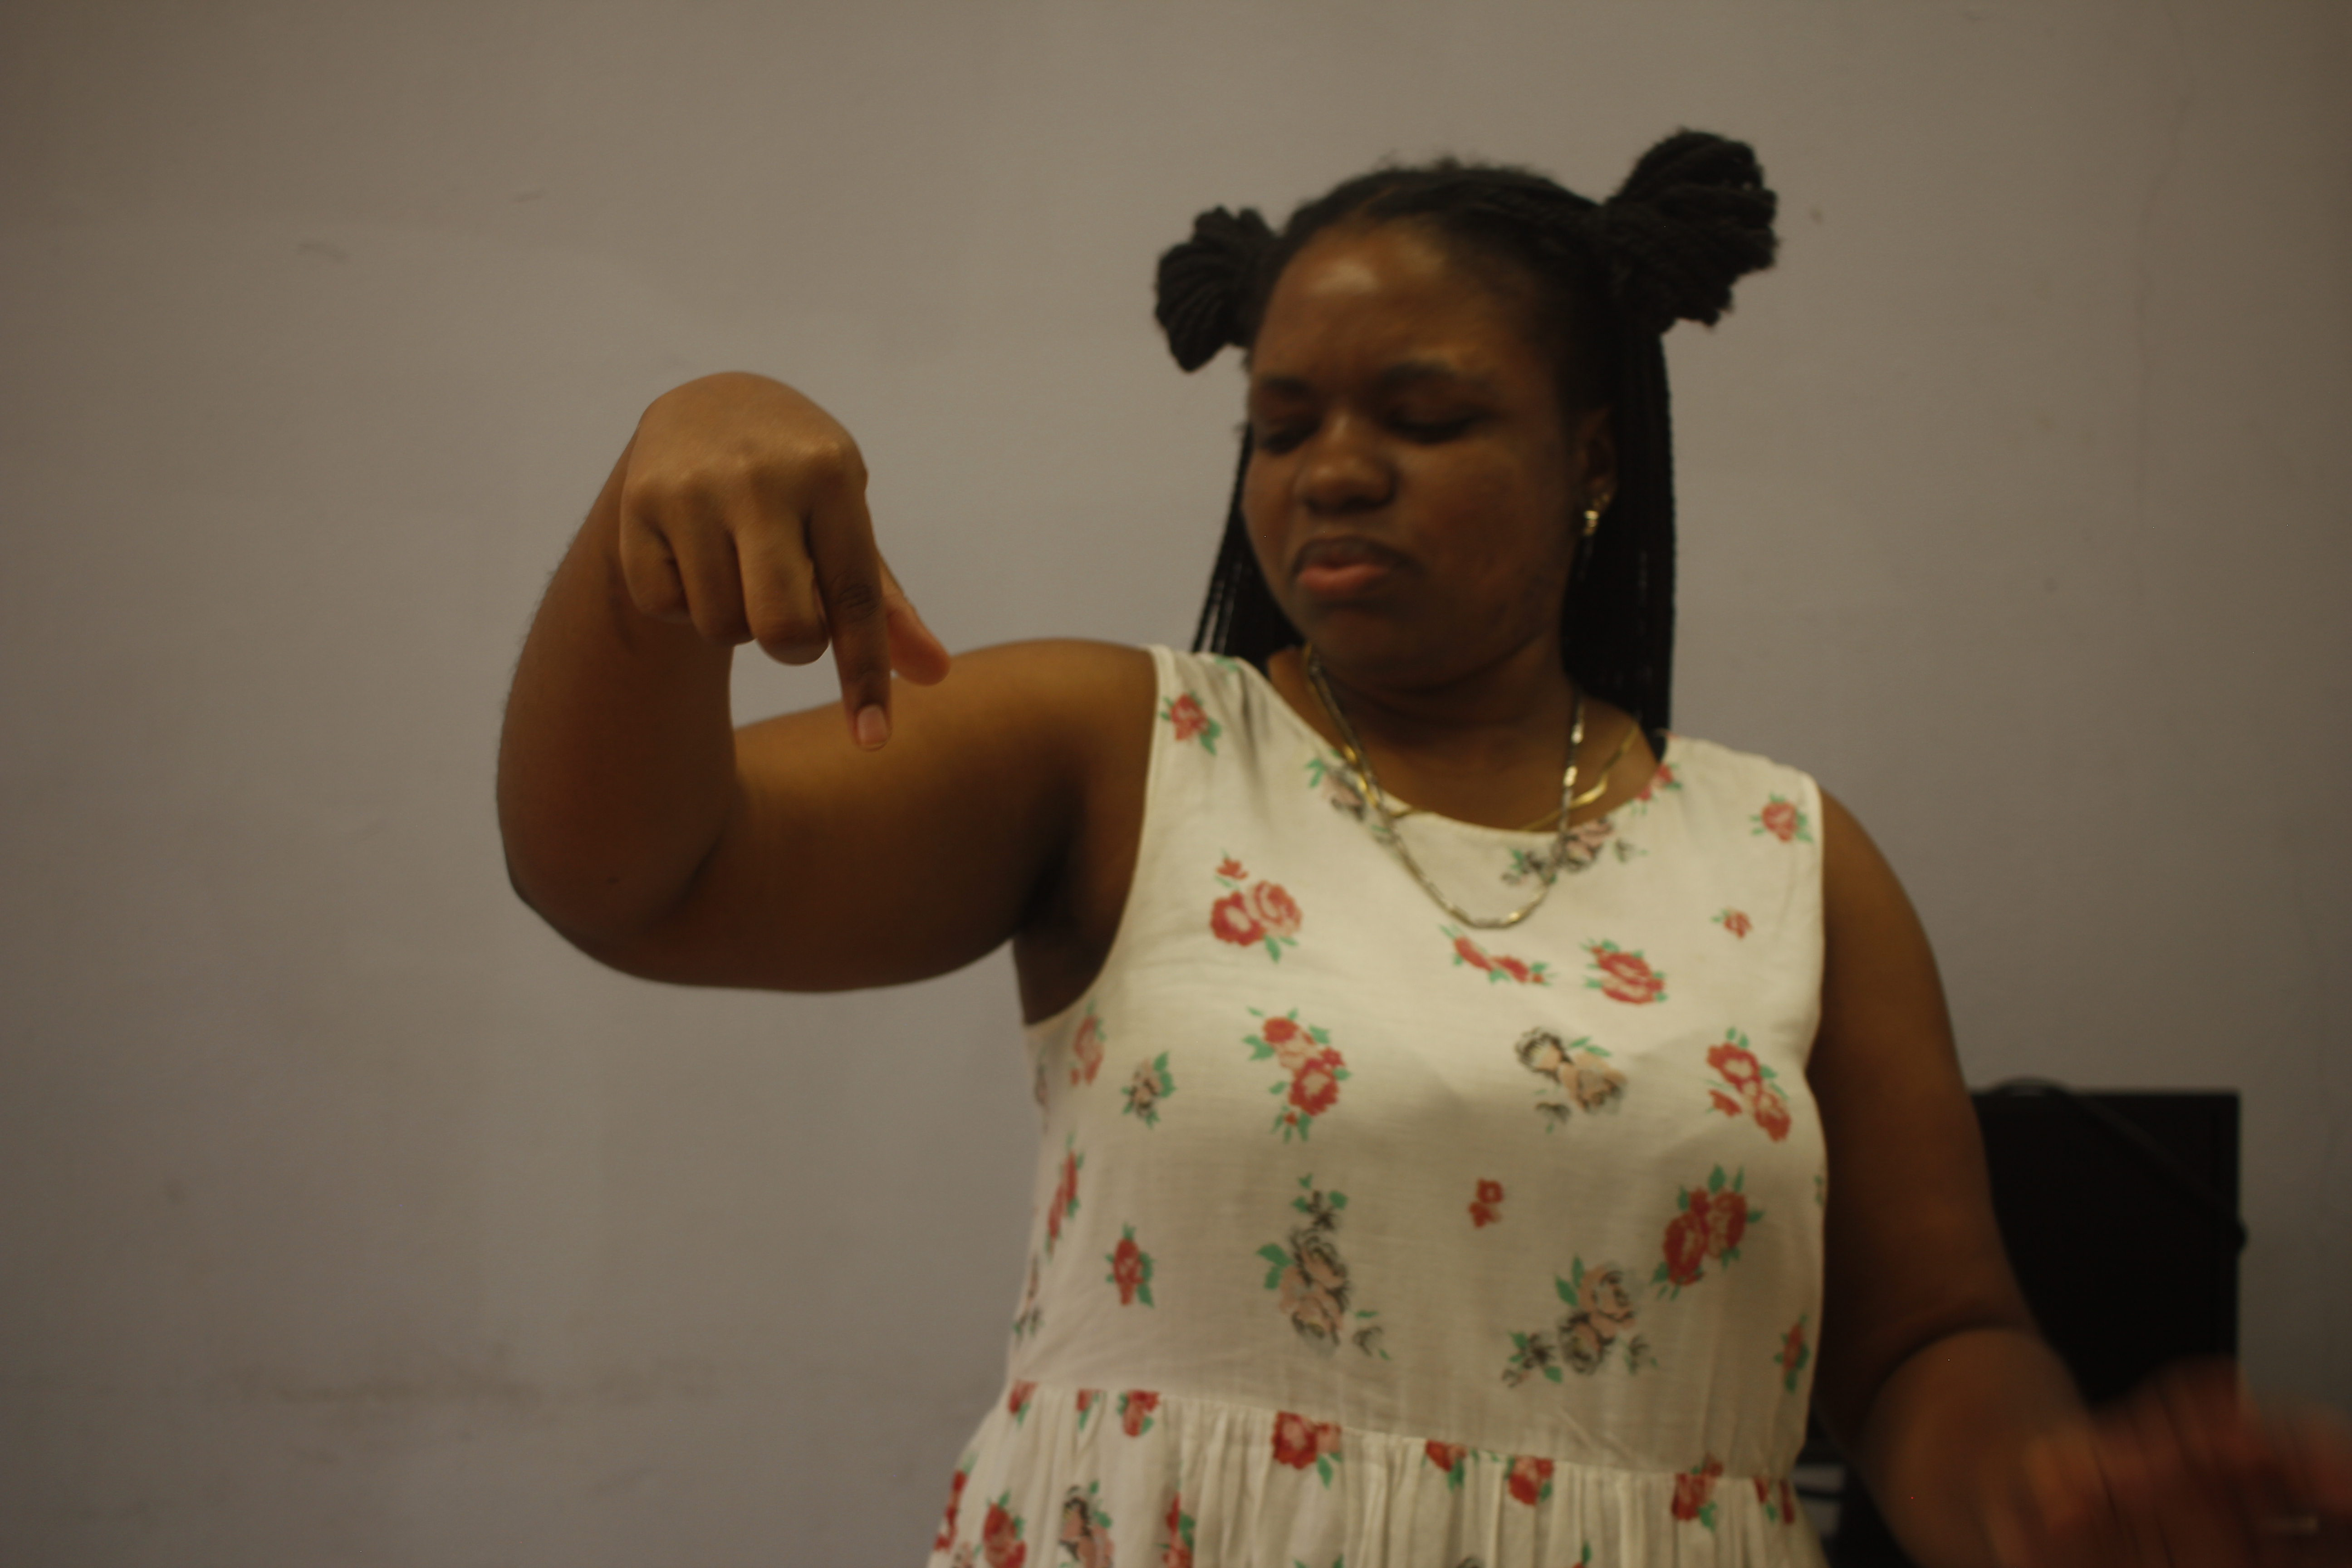Q: (597, 366, 959, 758)
